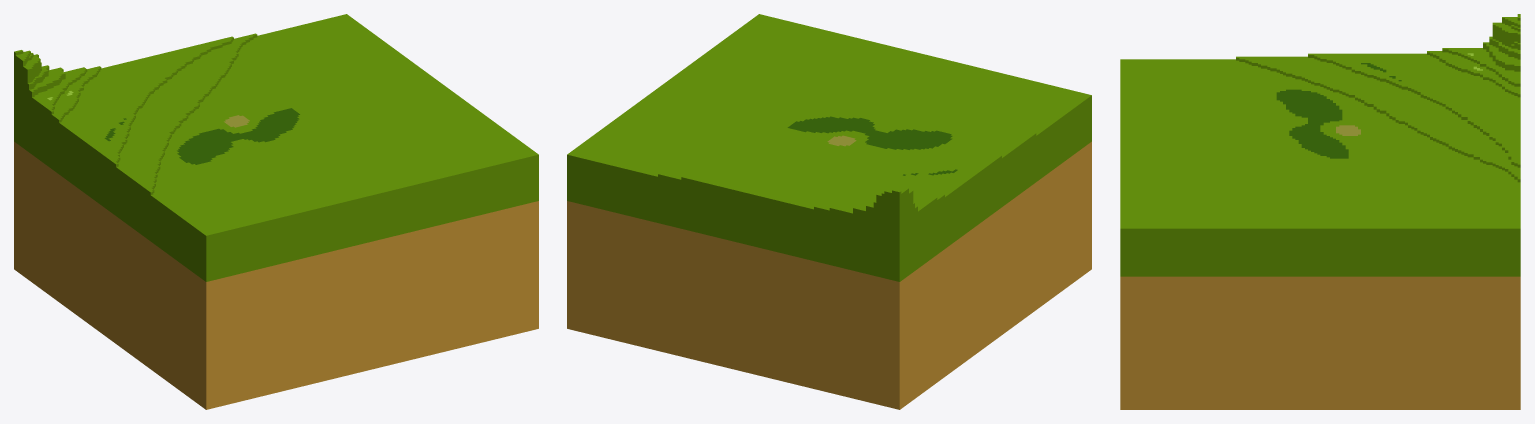
The picture shows the model from 3 angles, left to right: view 1: azimuth 30°, elevation 25°; view 2: azimuth 150°, elevation 25°; view 3: azimuth 270°, elevation 25°; orthographic projection. The views are drawn at different scales.
Visible parts, largest first — view 1: 11B; view 2: 11B; view 3: 11B.
Boxes of the visible parts, x1,y1,x2,y2 form: 11B: [14, 14, 538, 409]; 11B: [567, 14, 1091, 409]; 11B: [1120, 14, 1520, 409].
Size of the model in its own units: 12.8 by 8 by 12.8.
1 material, 1 textured.
